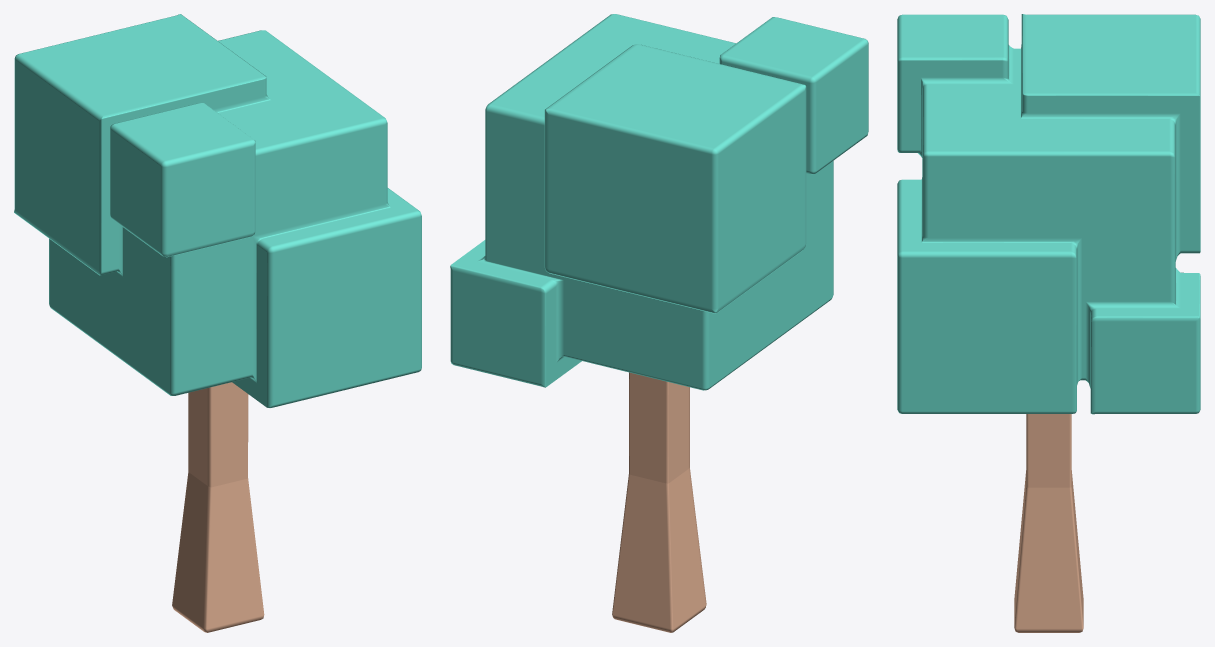
File: tree_blocks.glb
3 renders of one model, left to right at view 1: azimuth 30°, elevation 25°; view 2: azimuth 150°, elevation 25°; view 3: azimuth 270°, elevation 25°, orthographic. The views are drawn at different scales.
Visible parts, largest first — view 1: tree_blocks; view 2: tree_blocks; view 3: tree_blocks.
Part boxes in pixels (x1,y1,x2,y2): tree_blocks: (14,14,421,632); tree_blocks: (450,14,868,632); tree_blocks: (897,14,1200,632).
Size of the model in its own units: 0.6 by 1.19 by 0.6.
